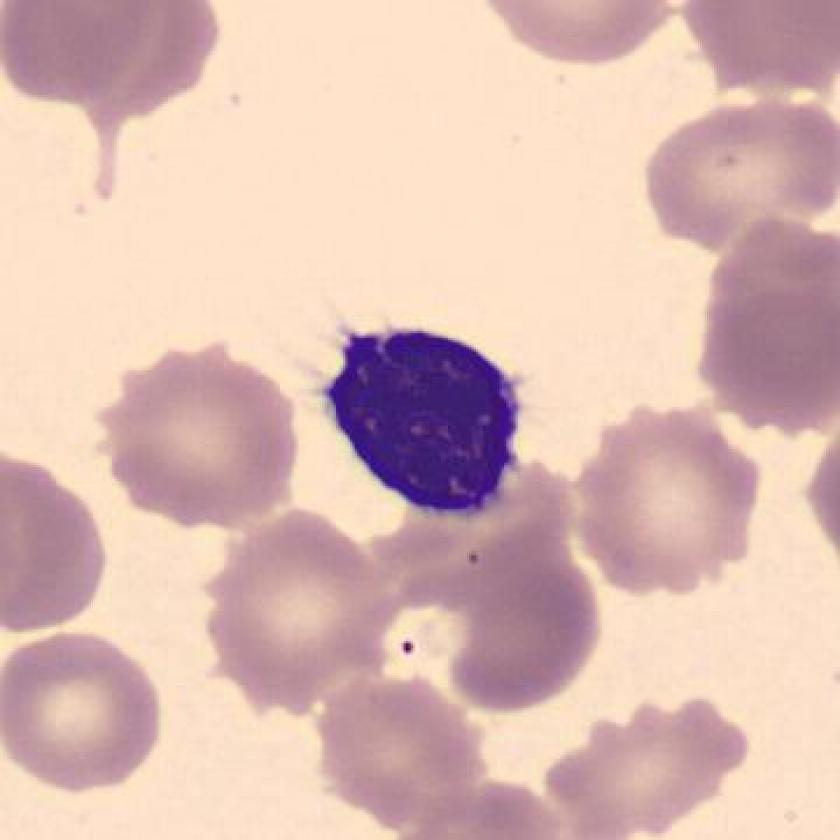lymphocyte: (302, 300, 545, 529)
